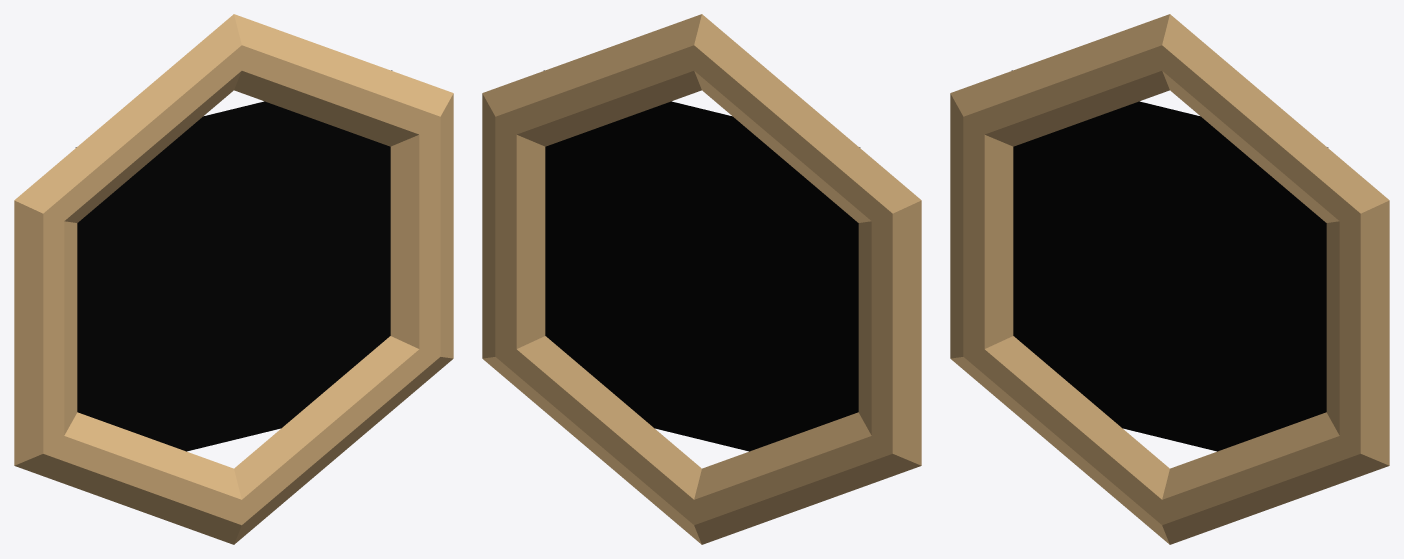
Rendered from DeathMenuHex.fbx.
3 views of the same model, side by side, from view 1: azimuth 30°, elevation 25°; view 2: azimuth 150°, elevation 25°; view 3: azimuth 330°, elevation 25° (orthographic).
Parts seen in each view (by area): view 1: DeathHexUI; view 2: DeathHexUI; view 3: DeathHexUI.
Boxes of the visible parts, box(x1,y1,x2,y2) form: DeathHexUI: box(14, 14, 453, 544); DeathHexUI: box(482, 14, 921, 544); DeathHexUI: box(950, 14, 1389, 544).
Size of the model in its own units: 173 by 200 by 10.74.
2 materials, 1 textured.
